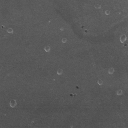corrosion: (8, 98, 19, 109), (119, 34, 128, 43), (96, 78, 105, 86), (56, 68, 64, 76), (107, 67, 115, 75), (116, 88, 124, 96), (43, 45, 52, 52), (6, 27, 14, 34), (104, 9, 112, 16), (61, 37, 68, 43), (69, 93, 75, 98)
